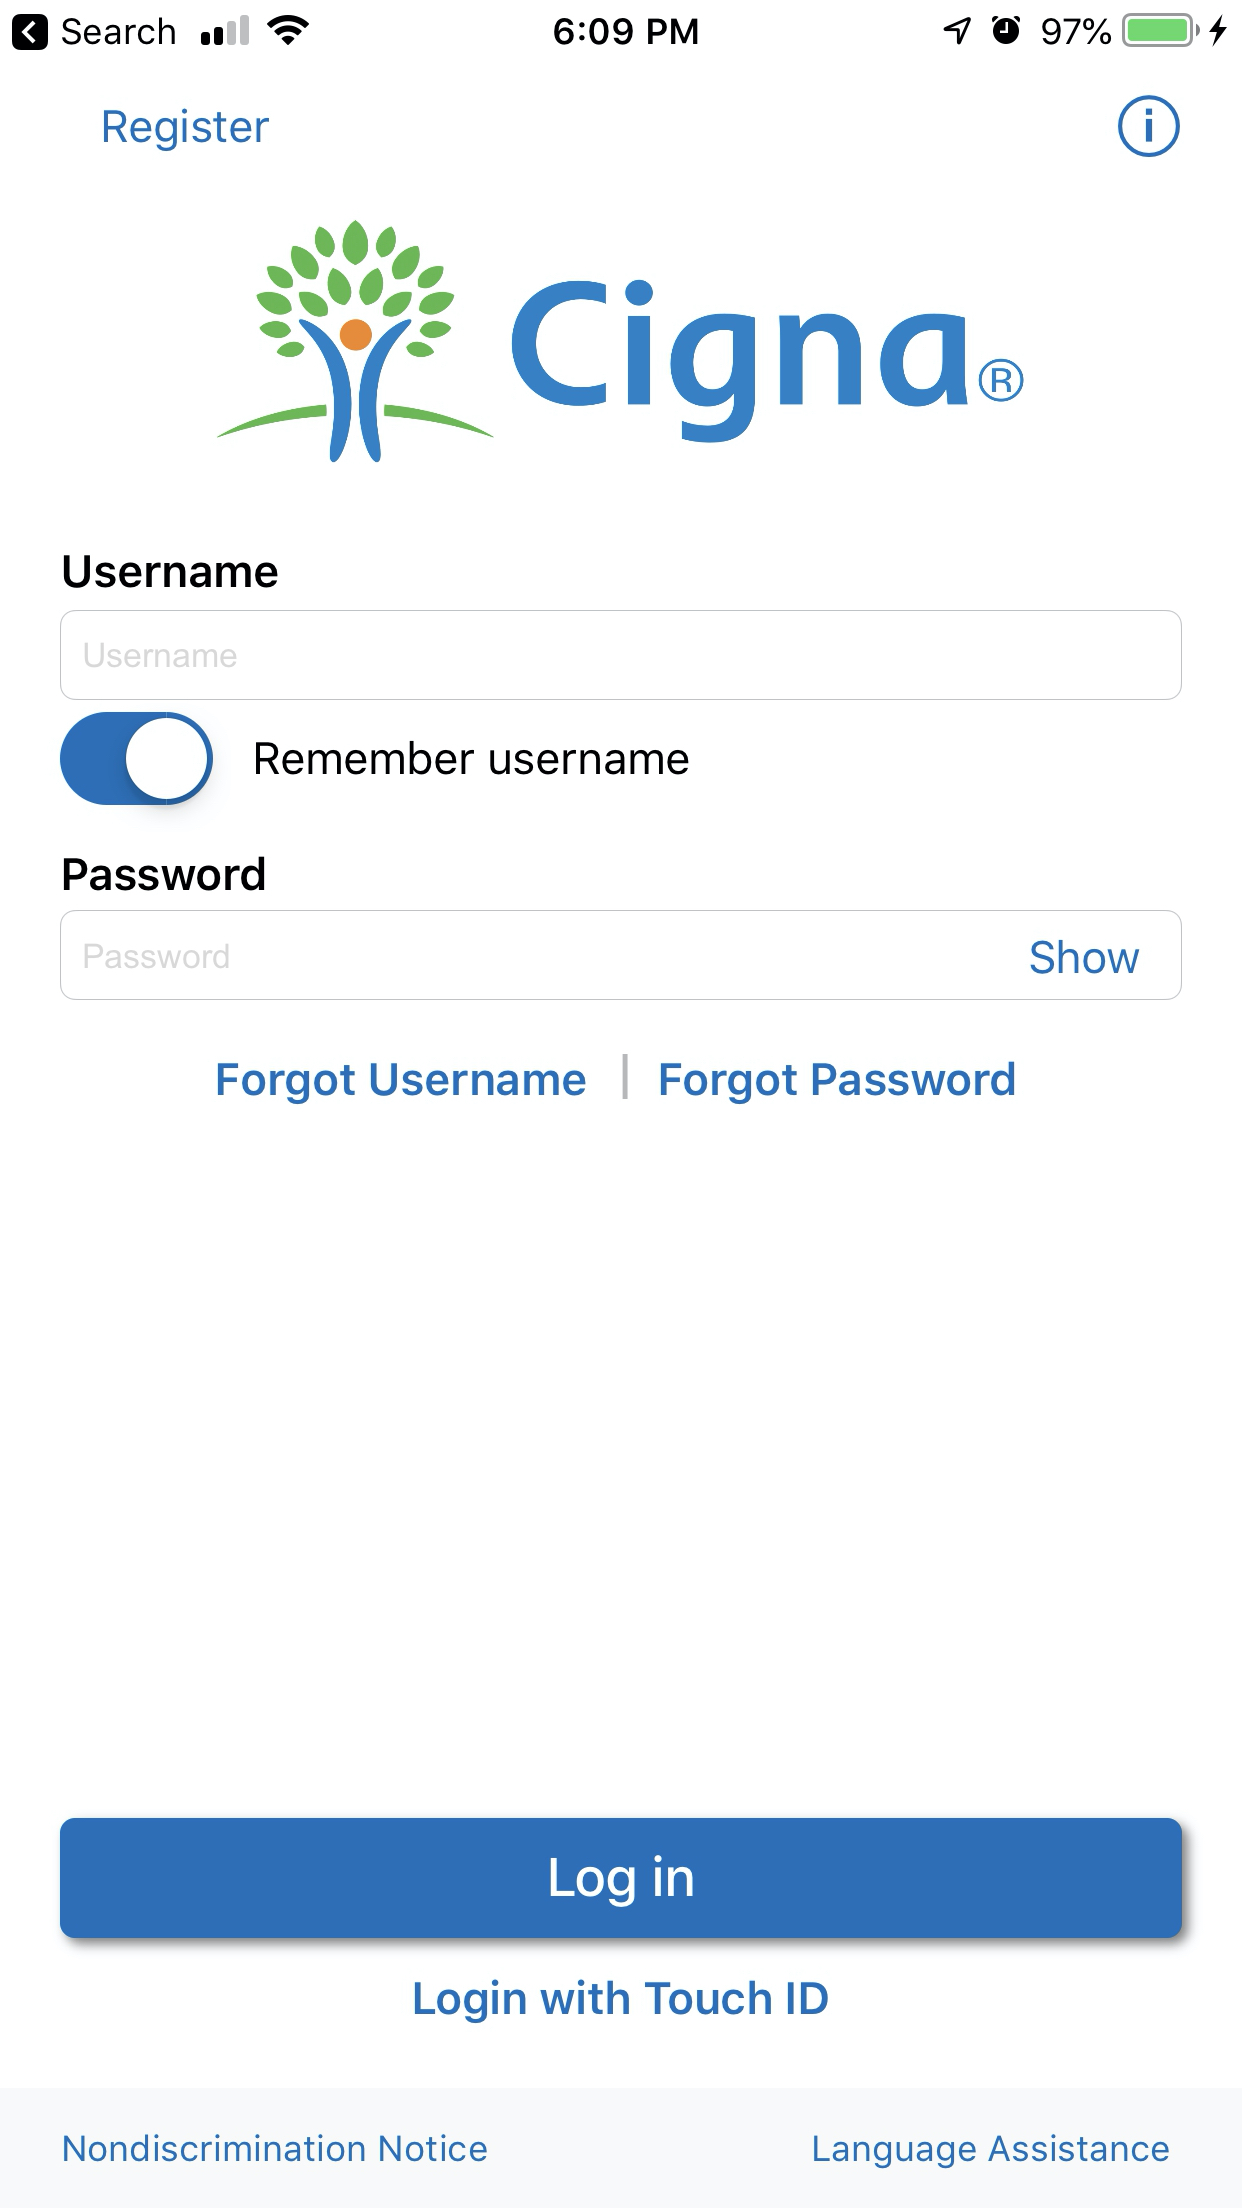EditText: (61, 910, 1183, 1001), (61, 610, 1181, 701)
Icon: (1118, 96, 1181, 159)
Image: (217, 221, 494, 464)
Switch: (61, 713, 215, 807)
Text: (513, 281, 1025, 444), (414, 1979, 830, 2025), (218, 1062, 587, 1106), (660, 1060, 1015, 1106), (256, 742, 690, 776), (813, 2132, 1171, 2169), (64, 2134, 488, 2163), (64, 855, 265, 892), (64, 555, 279, 588), (105, 109, 270, 152), (85, 643, 238, 669), (1030, 940, 1140, 975), (85, 943, 231, 969)
TextButton: (61, 1817, 1183, 1940)
UpperTaskBar: (2, 2, 1242, 52)
